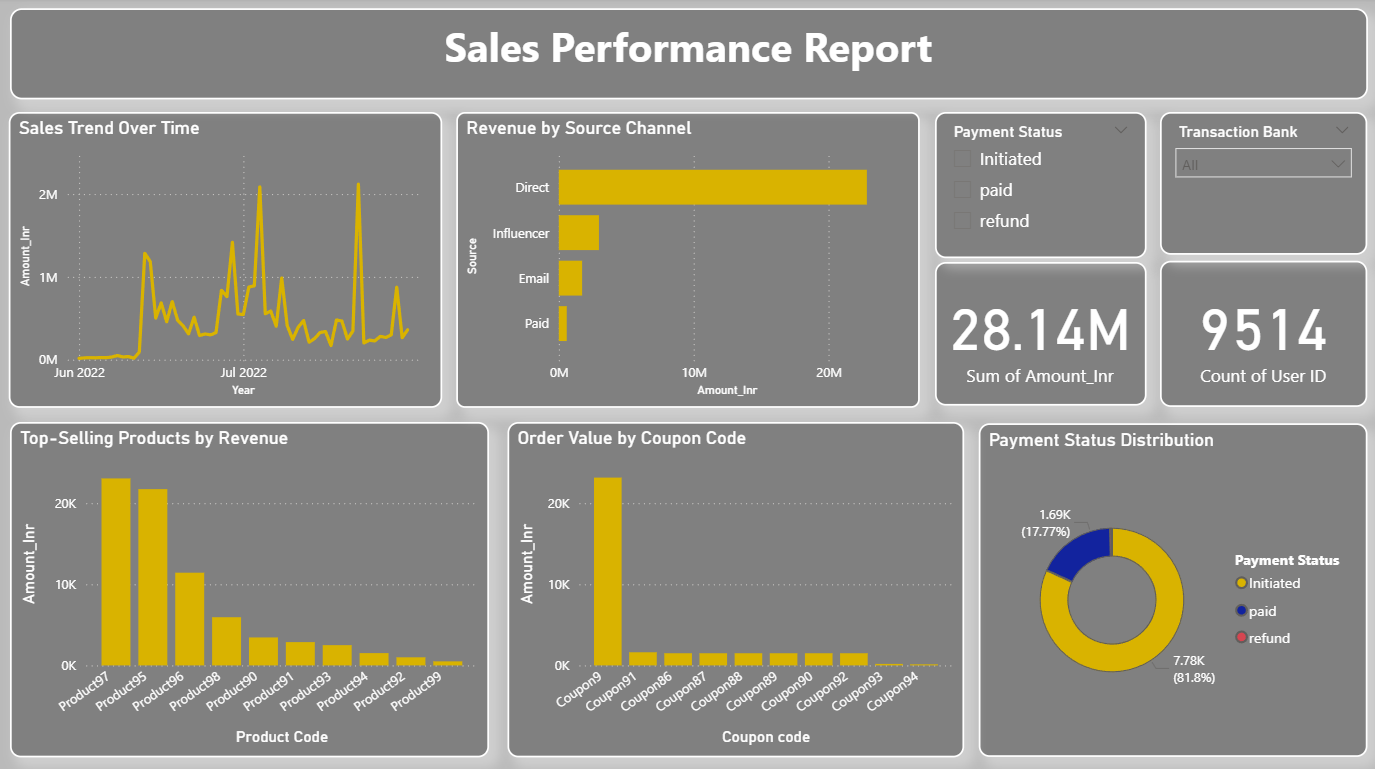

What the dashboard file says about the page in this screenshot:
{"tool":"powerbi","page":{"name":"Dashboard","canvas":[1280,720],"ordinal":1},"visuals":[{"type":"lineChart","title":"Sales Trend Over Time","fields":{"Category":["Sales data.Sales Date.Variation.Date Hierarchy.Year","Sales data.Sales Date.Variation.Date Hierarchy.Quarter","Sales data.Sales Date.Variation.Date Hierarchy.Month","Sales data.Sales Date.Variation.Date Hierarchy.Day"],"Y":["Sum(Sales data.Amount_Inr)"]},"box":[8.1,107,403.5,275.6],"z":0},{"type":"columnChart","title":"Top-Selling Products by Revenue","fields":{"Category":["Sales data.Product Code"],"Y":["Sum(Sales data.Amount_Inr)"]},"box":[9.3,395.3,445.4,311.6],"z":1000},{"type":"barChart","title":"Revenue by Source Channel","fields":{"Category":["Sales data.Source"],"Y":["Sum(Sales data.Amount_Inr)"]},"box":[424.4,107,431.4,275.6],"z":2000},{"type":"donutChart","title":"Payment Status Distribution","fields":{"Category":["Sales data.Payment Status"],"Y":["CountNonNull(Sales data.User ID)"]},"box":[910.5,396.5,361.6,310.5],"z":3000},{"type":"columnChart","title":"Order Value by Coupon Code","fields":{"Category":["Sales data.Coupon code"],"Y":["Avg(Sales data.Amount_Inr)"]},"box":[472.1,395.3,424.4,311.6],"z":4000},{"type":"textbox","box":[9.1,10.6,1262.8,84.8],"z":5000},{"type":"card","fields":{"Values":["Sum(Sales data.Amount_Inr)"]},"box":[869.8,246.5,196.5,133.7],"z":6000},{"type":"card","fields":{"Values":["CountNonNull(Sales data.User ID)"]},"box":[1079.1,245.3,193,136],"z":7000},{"type":"slicer","fields":{"Values":["Sales data.Payment Status"]},"box":[869.8,107,196.5,136],"z":8000},{"type":"slicer","fields":{"Values":["Sales data.Transaction Bank"]},"box":[1079.1,107,193,132.6],"z":9000}]}

Visuals, with their boxes in screenshot pixels (x1, y1, x2, y2), scaled from the page's 1280x720 canvas onto the 1375x769 screenshot:
"Sales Trend Over Time" lineChart: 9:114:442:409
"Top-Selling Products by Revenue" columnChart: 10:422:488:755
"Revenue by Source Channel" barChart: 456:114:919:409
"Payment Status Distribution" donutChart: 978:423:1367:755
"Order Value by Coupon Code" columnChart: 507:422:963:755
textbox: 10:11:1366:102
card - Sum(Sales data.Amount_Inr): 934:263:1145:406
card - CountNonNull(Sales data.User ID): 1159:262:1367:407
slicer - Sales data.Payment Status: 934:114:1145:260
slicer - Sales data.Transaction Bank: 1159:114:1367:256
